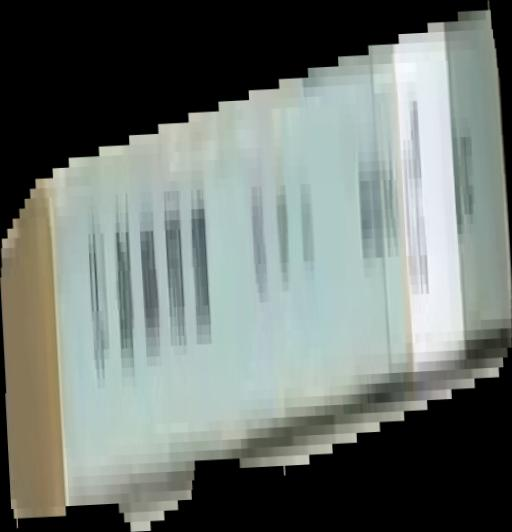flat: (1, 1, 512, 532)
